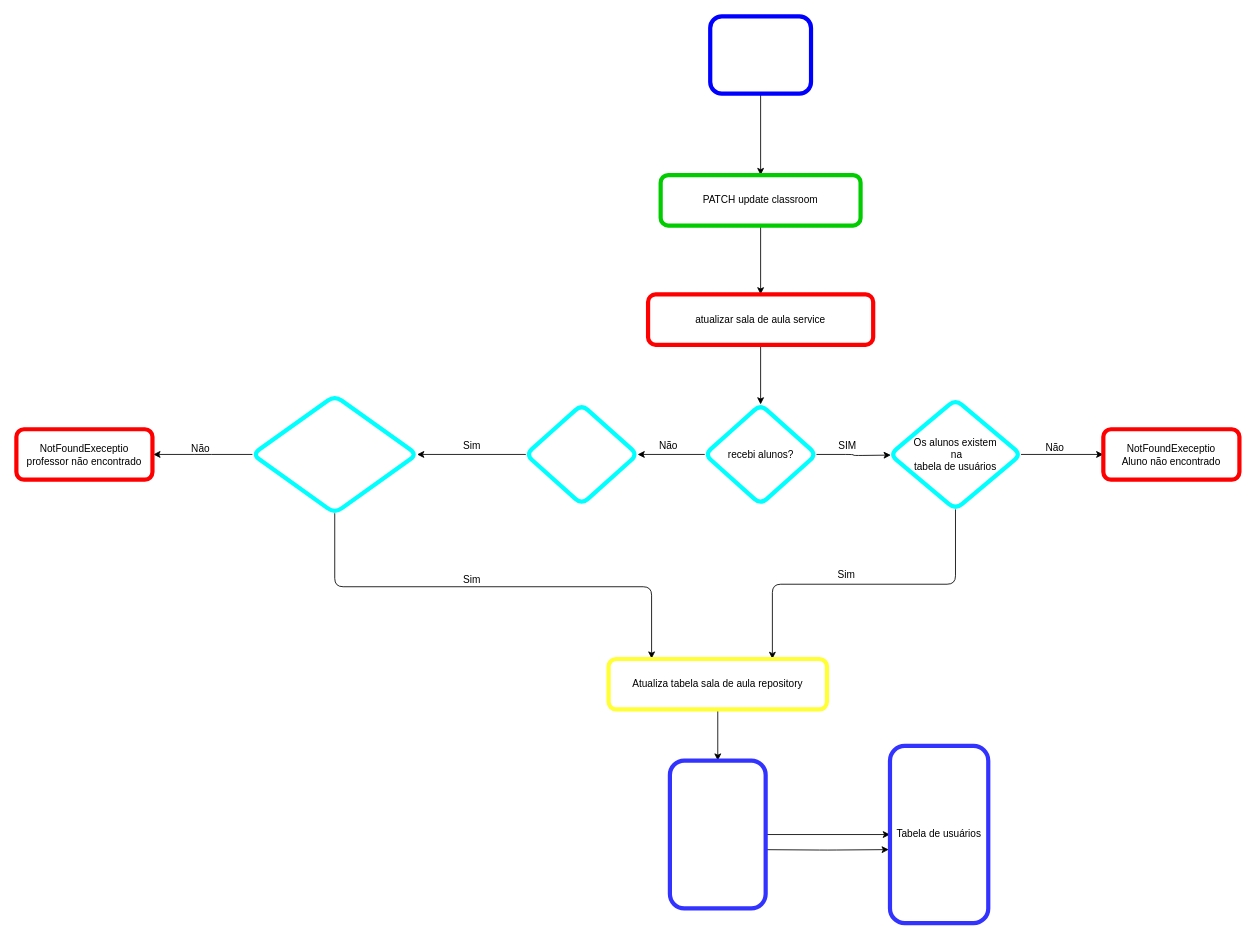
The diagram is 1256 pixels wide and 940 high, and some of its shapes have lost their labels. Each missing label, with the centre of its shape:
"nome tema assunto estudantes professores" belongs at [760,54].
"Os professores existem na tabela de usuários?" belongs at [334,454].
"Recebi professores?" belongs at [581,454].
"Tabela sala de aula Teachers Students" belongs at [717,834].
